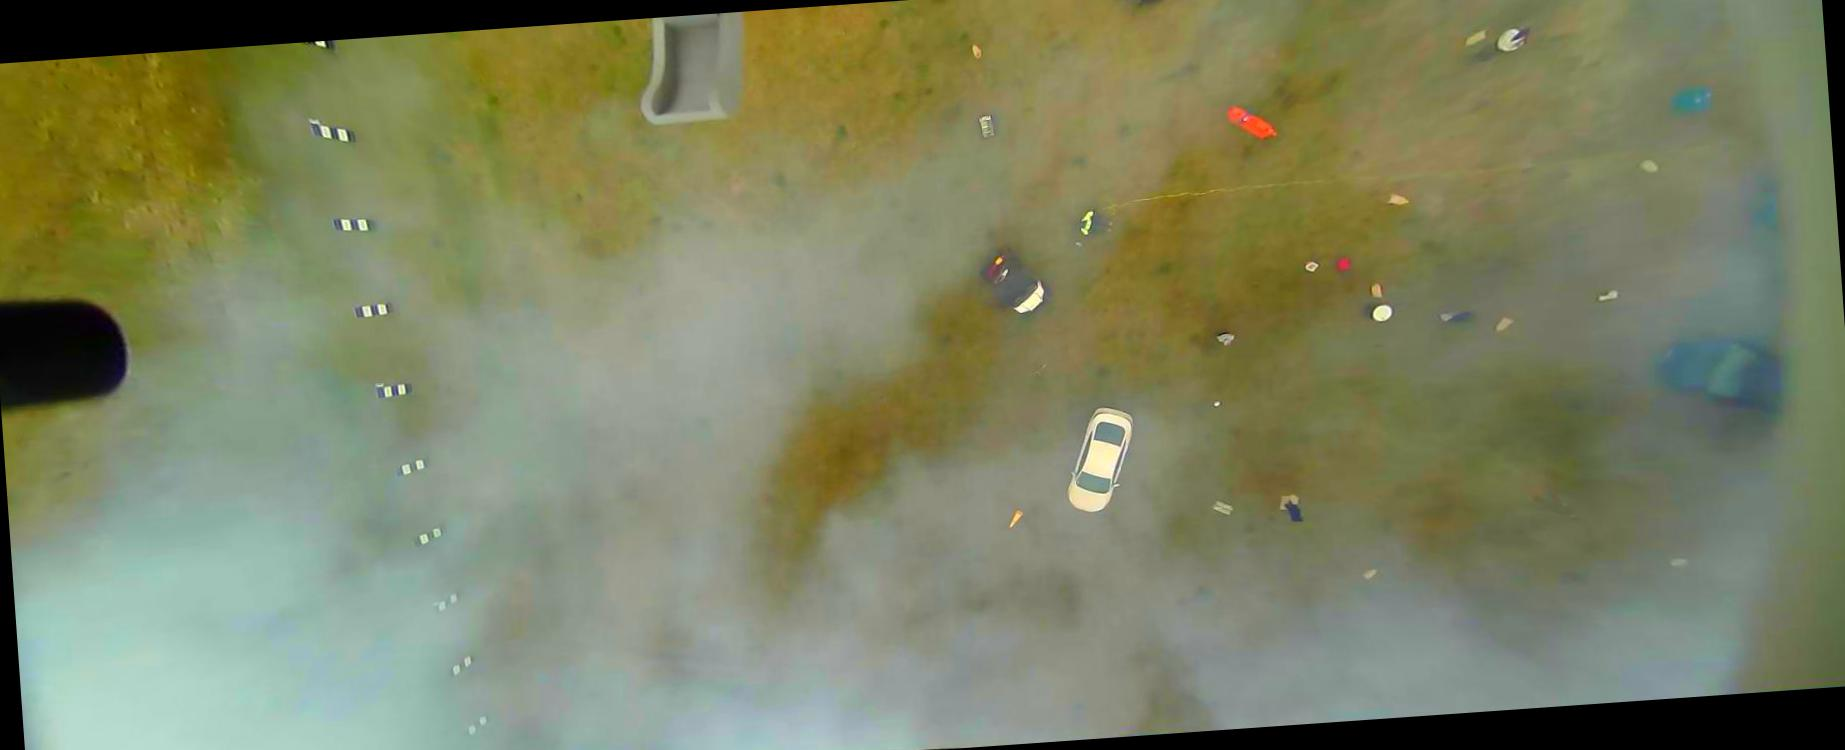vehicle: (1658, 324, 1786, 417), (1060, 404, 1140, 516), (975, 243, 1052, 319), (1747, 178, 1784, 235)
